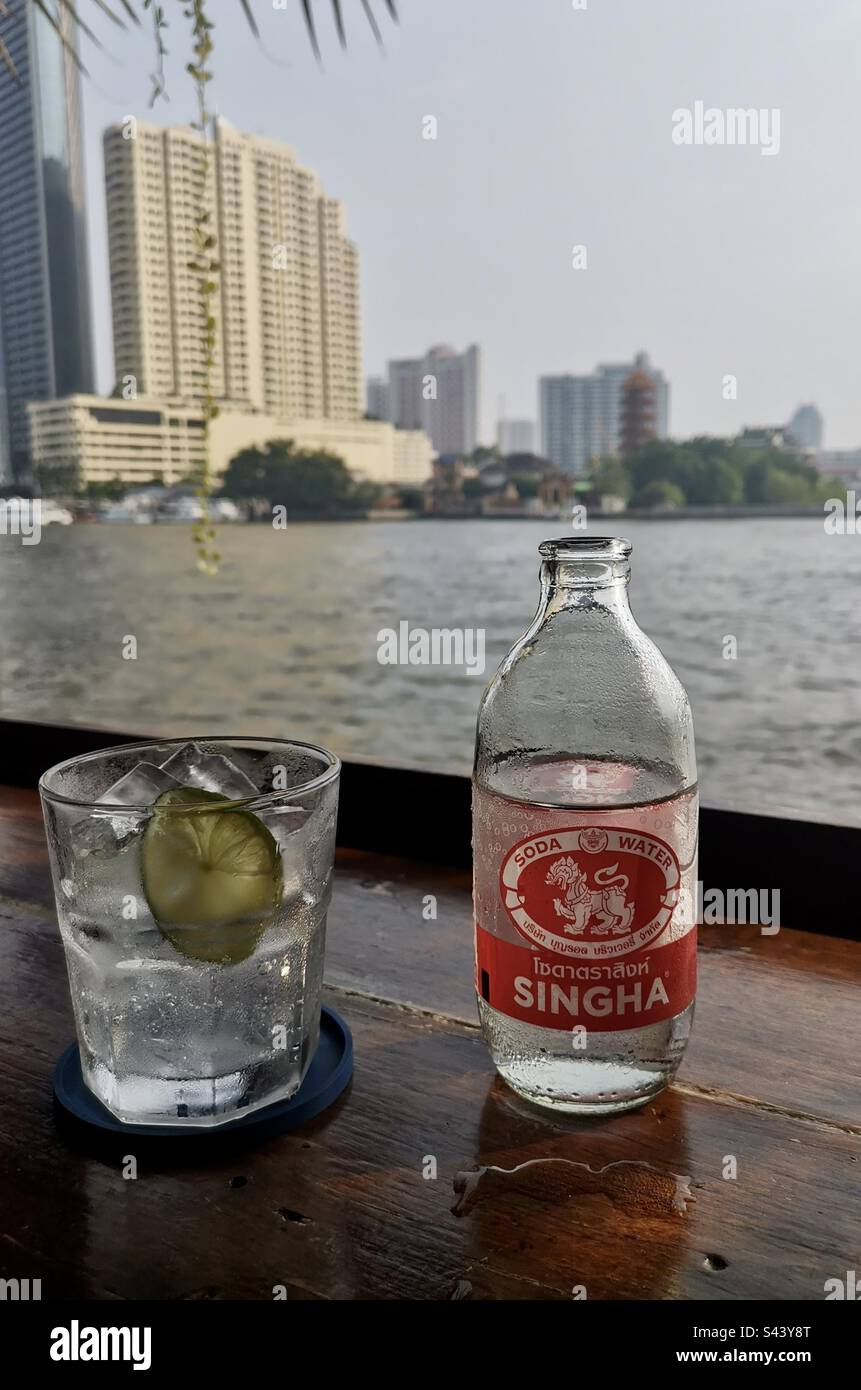glass_bottle: (416, 514, 752, 1151)
